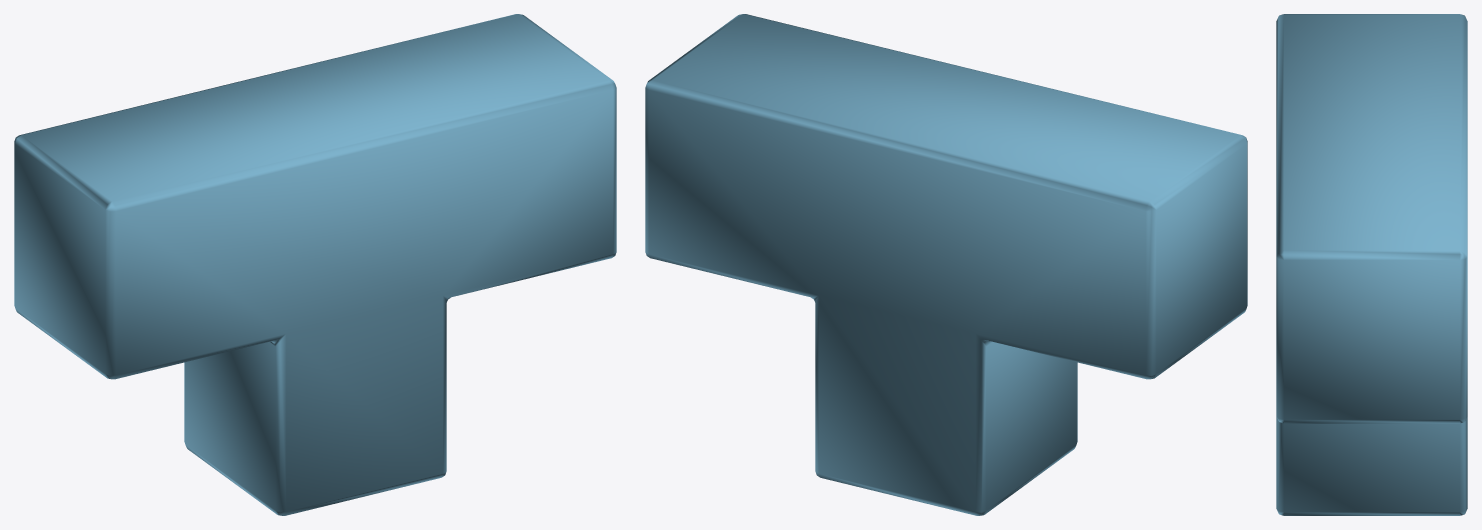
The model's file is A01_T_BLOCK.fbx.
3 views of the same model, side by side, from view 1: azimuth 30°, elevation 25°; view 2: azimuth 150°, elevation 25°; view 3: azimuth 270°, elevation 25° (orthographic). The views are drawn at different scales.
Parts seen in each view (by area): view 1: A01_T_BLOCK; view 2: A01_T_BLOCK; view 3: A01_T_BLOCK.
Boxes of the visible parts, left/top/right/bottom form: A01_T_BLOCK: left=14, top=14, right=616, bottom=515; A01_T_BLOCK: left=645, top=14, right=1247, bottom=515; A01_T_BLOCK: left=1276, top=14, right=1467, bottom=515.
Size of the model in its own units: 300 by 200 by 100.
